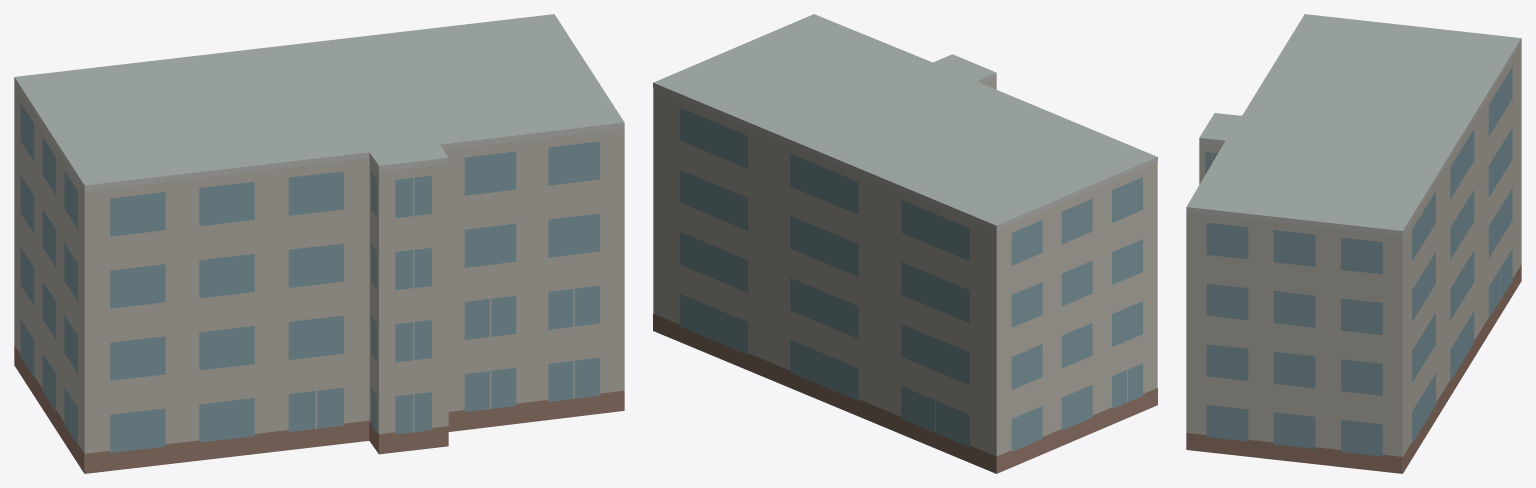
Rendered from survey-upis-32679280.glb.
3 views of the same model, side by side, from view 1: azimuth 30°, elevation 25°; view 2: azimuth 150°, elevation 25°; view 3: azimuth 270°, elevation 25° (orthographic). The views are drawn at different scales.
Parts seen in each view (by area): view 1: survey-upis-32679280.tmp; view 2: survey-upis-32679280.tmp; view 3: survey-upis-32679280.tmp.
Boxes of the visible parts, <box> form: survey-upis-32679280.tmp: <box>14,14,624,473</box>; survey-upis-32679280.tmp: <box>653,14,1157,473</box>; survey-upis-32679280.tmp: <box>1186,14,1521,473</box>.
Size of the model in its own units: 23.39 by 12.2 by 15.27.
